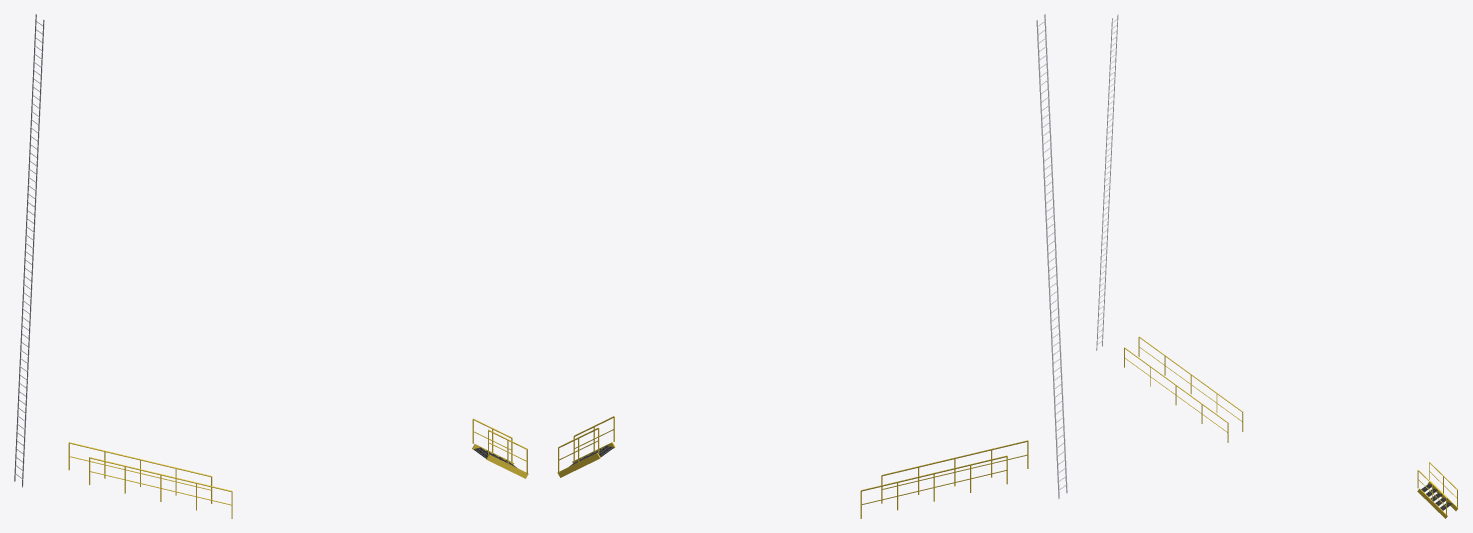
The model's file is additions.glb.
3 views of the same model, side by side, from view 1: azimuth 30°, elevation 25°; view 2: azimuth 150°, elevation 25°; view 3: azimuth 330°, elevation 25° (orthographic). The views are drawn at different scales.
Visible parts, largest first — view 1: adic_amarillo, adic_galvanizado; view 2: adic_amarillo, adic_galvanizado; view 3: adic_amarillo, adic_galvanizado.
Part boxes in pixels (<box>): adic_amarillo: <box>68,418,528,518</box>; adic_galvanizado: <box>14,14,44,487</box>; adic_amarillo: <box>557,416,1028,518</box>; adic_galvanizado: <box>1036,14,1067,498</box>; adic_amarillo: <box>1124,336,1458,518</box>; adic_galvanizado: <box>1096,14,1118,350</box>.
Size of the model in its own units: 19.08 by 20.83 by 1.54.
Materials: 3 (1 with a texture image).
